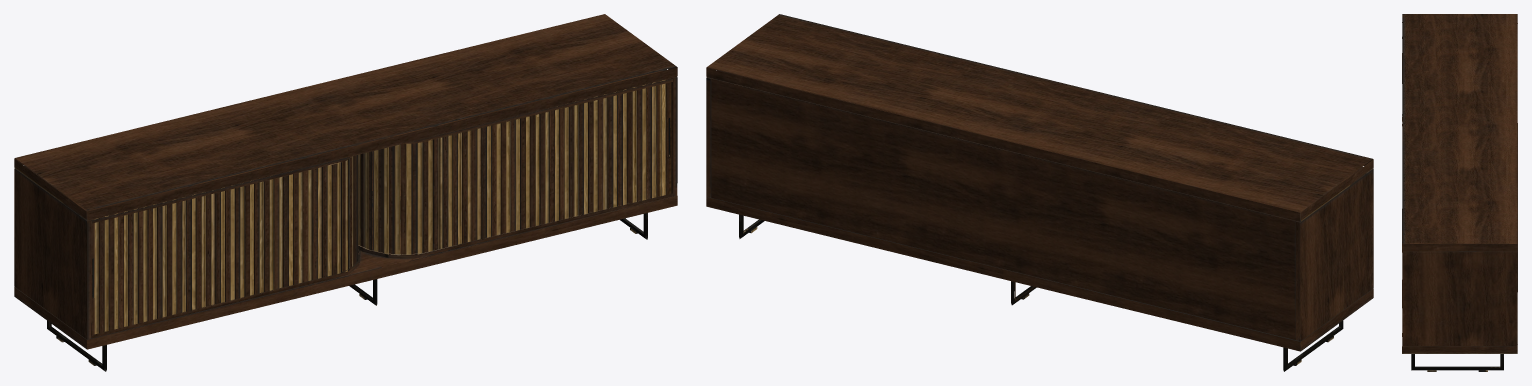
File: fu_sideboard.fbx
3 renders of one model, left to right at view 1: azimuth 30°, elevation 25°; view 2: azimuth 150°, elevation 25°; view 3: azimuth 270°, elevation 25°, orthographic. The views are drawn at different scales.
Visible parts, largest first — view 1: fu_sideboard_LOD0; view 2: fu_sideboard_LOD0; view 3: fu_sideboard_LOD0.
Boxes of the visible parts, x1,y1,x2,y2 form: fu_sideboard_LOD0: (14, 14, 677, 371); fu_sideboard_LOD0: (706, 14, 1373, 371); fu_sideboard_LOD0: (1402, 14, 1517, 371).
Size of what is drawn, in the model's own units: 2.44 by 0.6801 by 0.5203.
